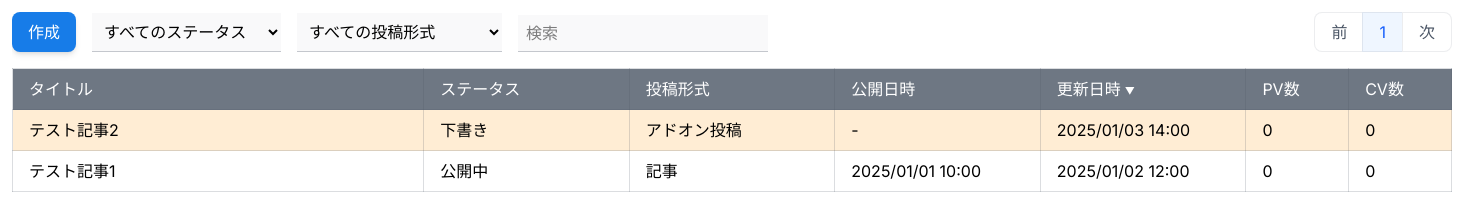
ArticleTable コンポーネント › 検索フィルターが動作する
The image size is (1464, 209).
Step 1. Type "テスト記事1" into the search field → [643, 34], box [518,15,768,52]
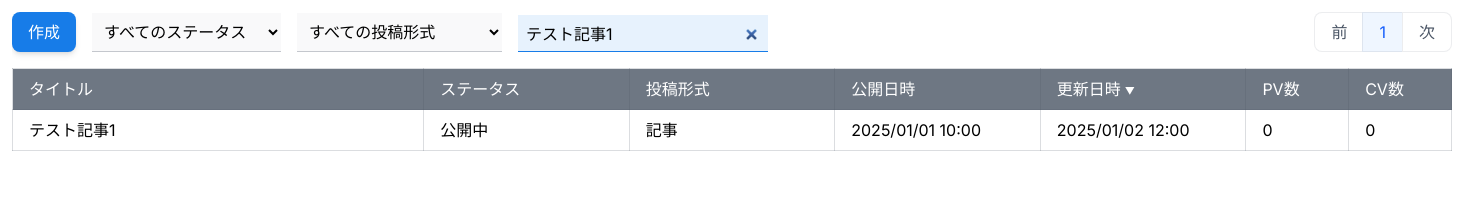
expect the text "テスト記事1" is shown: met, box [12,110,424,150]
expect the text "テスト記事2" is gone: met
